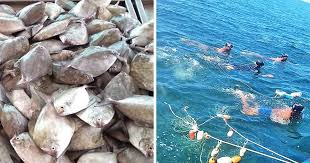Ikan Bawal: (29, 94, 77, 158), (68, 45, 120, 78), (17, 43, 54, 86)
